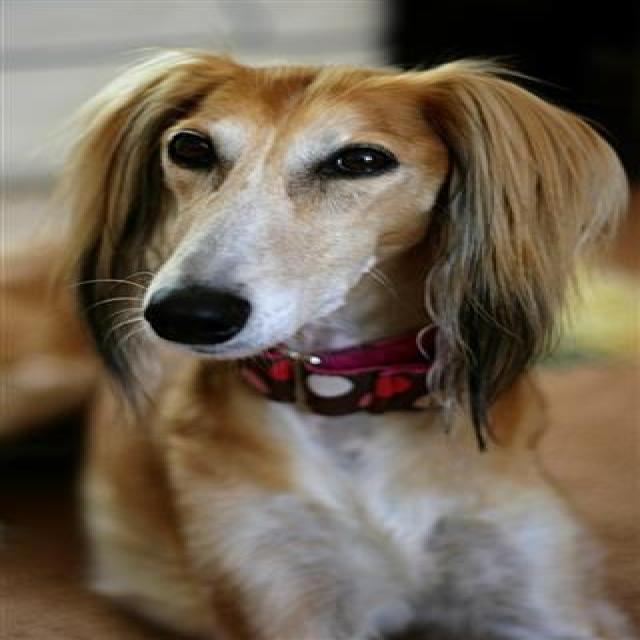saluki: (0, 44, 636, 637)
